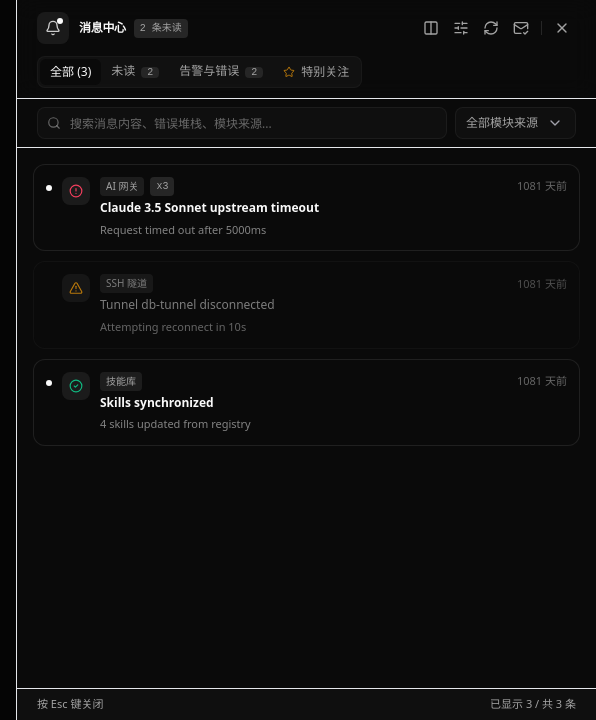
Test case: src/components/MessageCenter/MessageCenter.tsx › filters messages by Unread and Alerts tabs
Check: the text "Claude 3.5 Sonnet upstream timeout" is shown, box [100,199,319,216]
Note: 点击未读 Tab
Click the button "未读2": [135, 72] box [101,59,169,85]
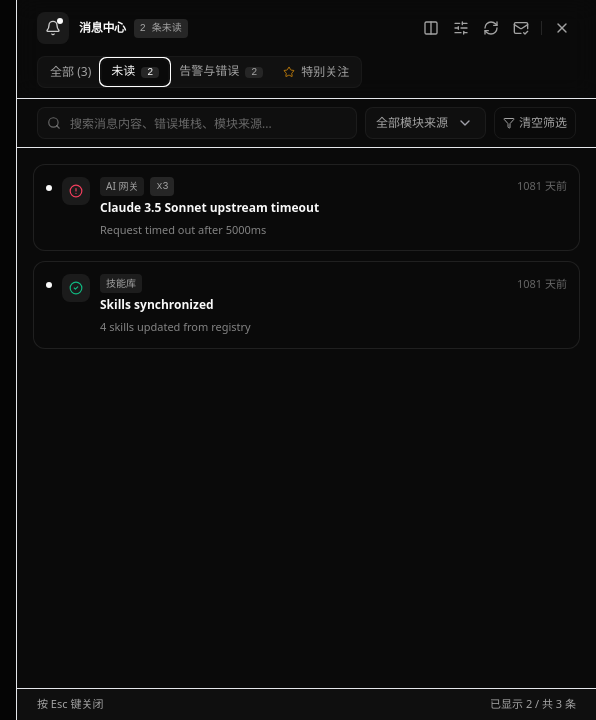
Check: the text "Claude 3.5 Sonnet upstream timeout" is shown, box [100,199,319,216]
Check: the button "Tunnel db-tunnel disconnected" is gone
Note: 点击告警 Tab
Click the button "告警与错误2": [221, 72] box [169,59,273,85]
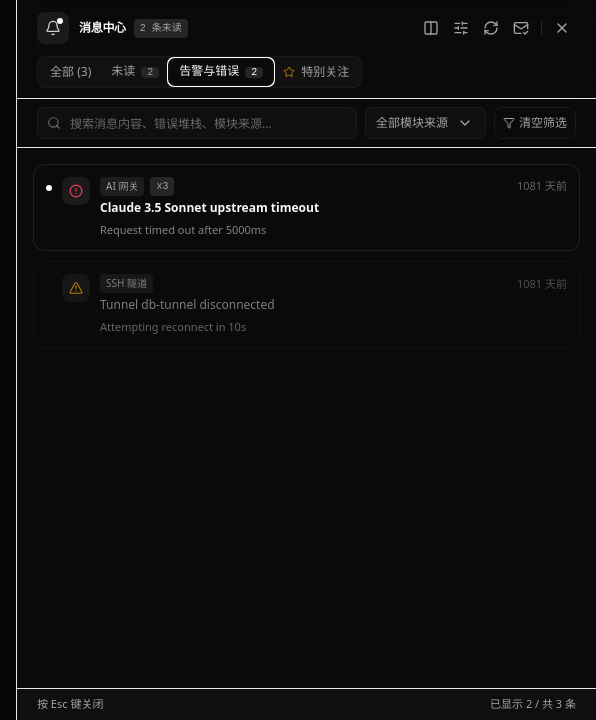
Check: the text "Claude 3.5 Sonnet upstream timeout" is shown, box [100,199,319,216]
Check: the text "Tunnel db-tunnel disconnected" is shown, box [100,296,275,313]
Check: the button "Skills synchronized" is gone
